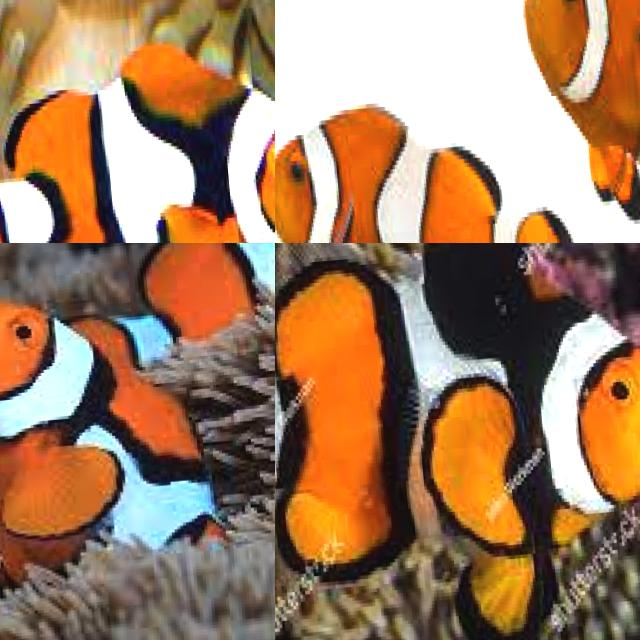Amphiprion-percula: (275, 243, 640, 640), (0, 243, 263, 640), (0, 0, 275, 243), (275, 55, 587, 243), (504, 0, 640, 243), (82, 243, 275, 408)
